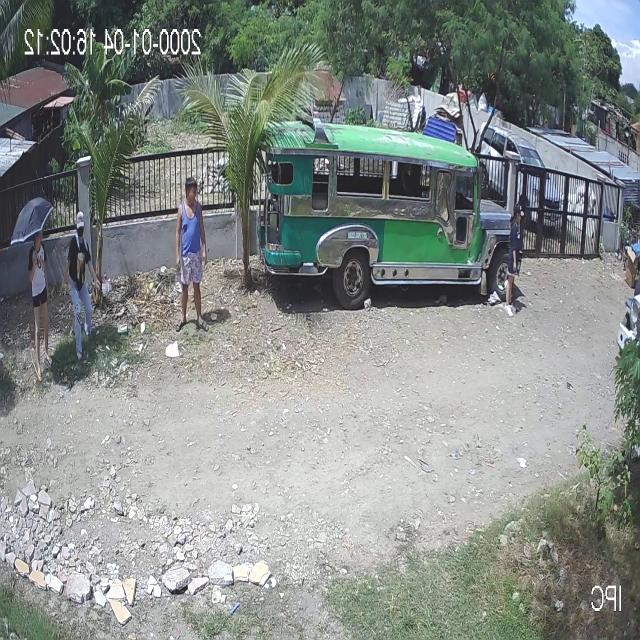standing: (503, 204, 532, 317)
walking: (167, 175, 210, 339), (67, 210, 95, 362), (26, 235, 54, 383)
